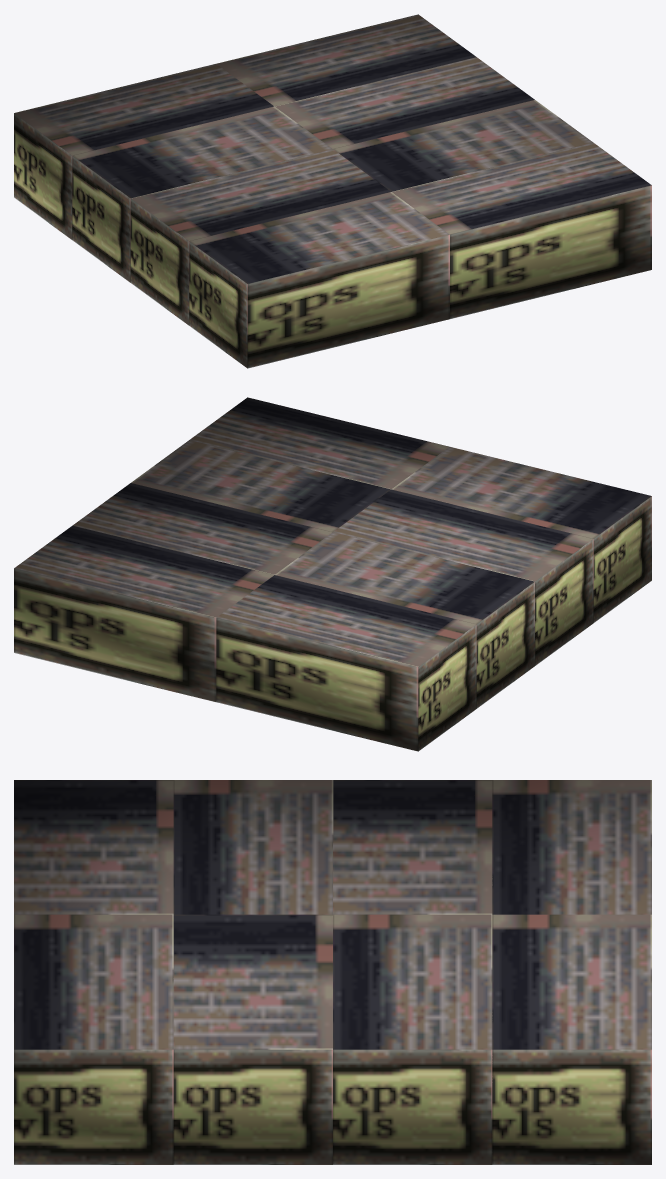
The picture shows the model from 3 angles, top to bottom: view 1: azimuth 30°, elevation 25°; view 2: azimuth 150°, elevation 25°; view 3: azimuth 270°, elevation 25°; orthographic projection. The views are drawn at different scales.
Visible parts, largest first — view 1: T1L3M001_14; view 2: T1L3M001_14; view 3: T1L3M001_14.
Part boxes in pixels (box(x1,y1,x2,y2)): T1L3M001_14: box(14, 14, 651, 368); T1L3M001_14: box(14, 397, 651, 751); T1L3M001_14: box(14, 780, 651, 1164).
Size of the model in its own units: 2 by 0.3994 by 2.
